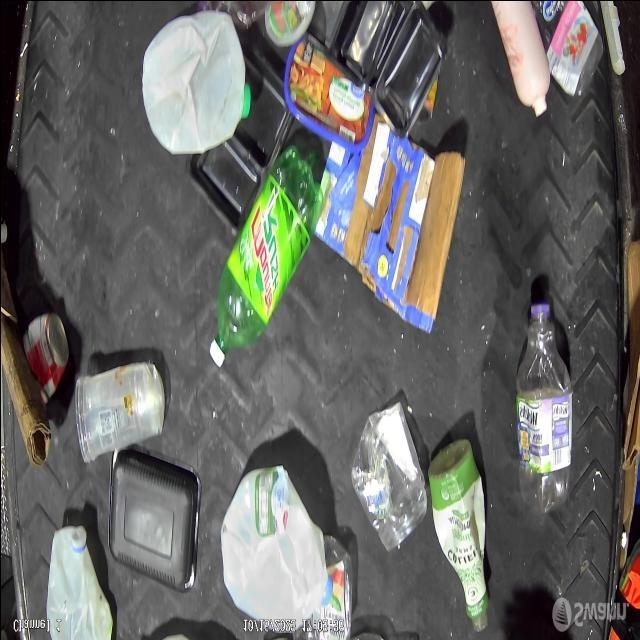milk_jug: (219, 464, 327, 622), (140, 12, 249, 154), (42, 530, 102, 640)
plastic_bottle: (508, 282, 572, 515), (74, 356, 164, 468)
